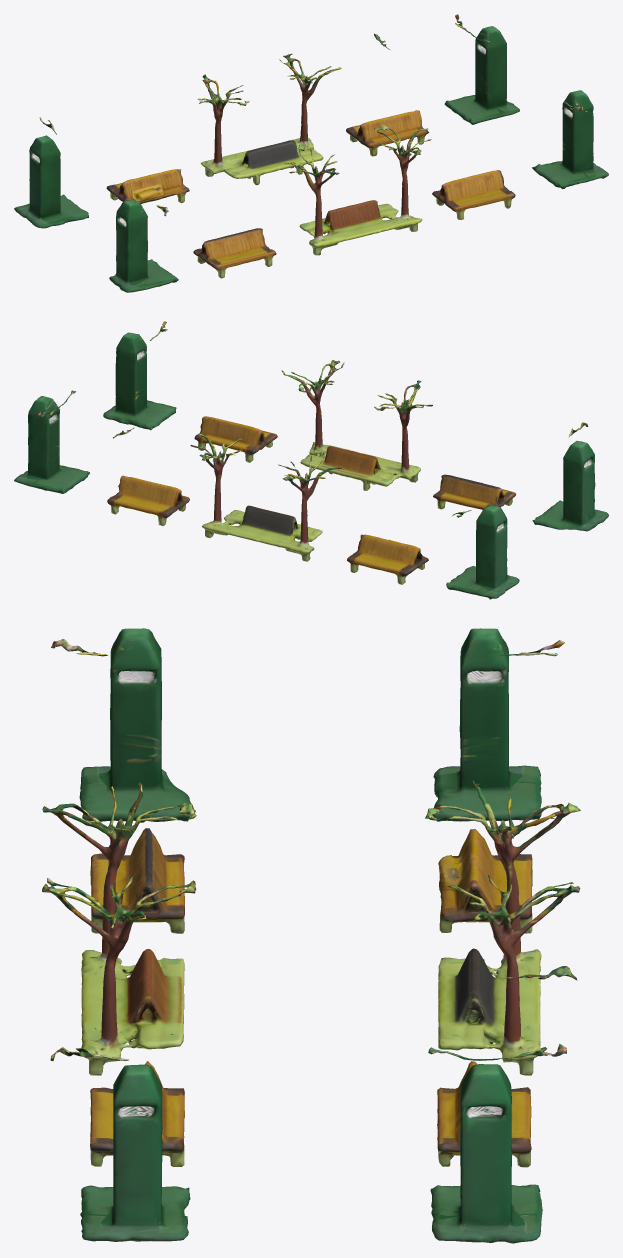
The model's file is park.glb.
3 renders of one model, top to bottom at view 1: azimuth 30°, elevation 25°; view 2: azimuth 150°, elevation 25°; view 3: azimuth 270°, elevation 25°, orthographic. The views are drawn at different scales.
Size of the model in its own units: 1.92 by 0.3529 by 0.9259.
1 material, 1 textured.
